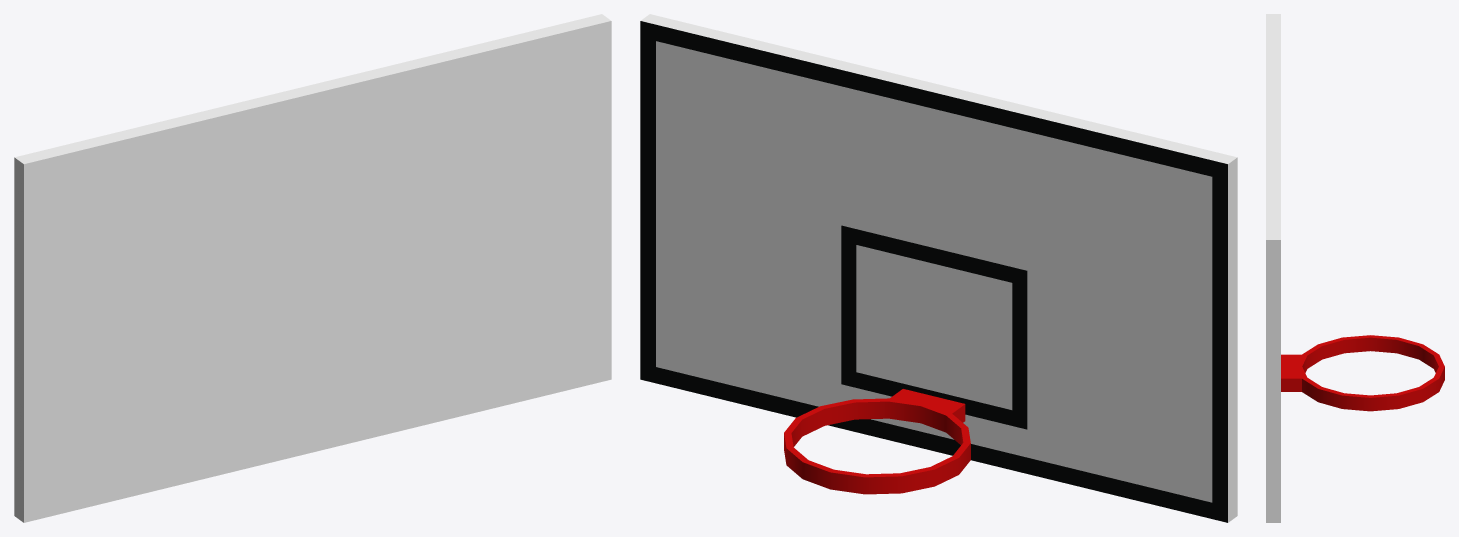
File: Hoop.fbx
The picture shows the model from 3 angles, left to right: view 1: azimuth 30°, elevation 25°; view 2: azimuth 150°, elevation 25°; view 3: azimuth 270°, elevation 25°; orthographic projection. The views are drawn at different scales.
Visible parts, largest first — view 1: Board; view 2: Board, Ring; view 3: Board, Ring.
Boxes of the visible parts, x1=… form: Board: x1=14, y1=14, x2=611, y2=522; Board: x1=640, y1=14, x2=1237, y2=522; Ring: x1=784, y1=389, x2=970, y2=494; Board: x1=1266, y1=14, x2=1280, y2=522; Ring: x1=1281, y1=335, x2=1444, y2=411.
Size of the model in its own units: 180 by 105 by 60.16.
Materials: 1 (1 with a texture image).
